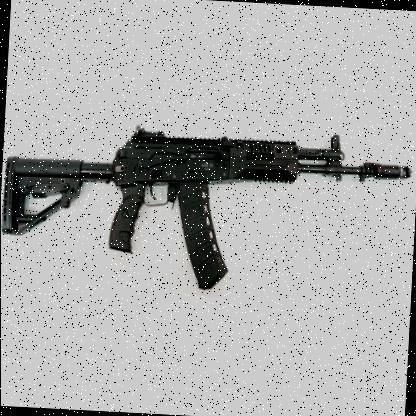rifle: (0, 88, 411, 301)
